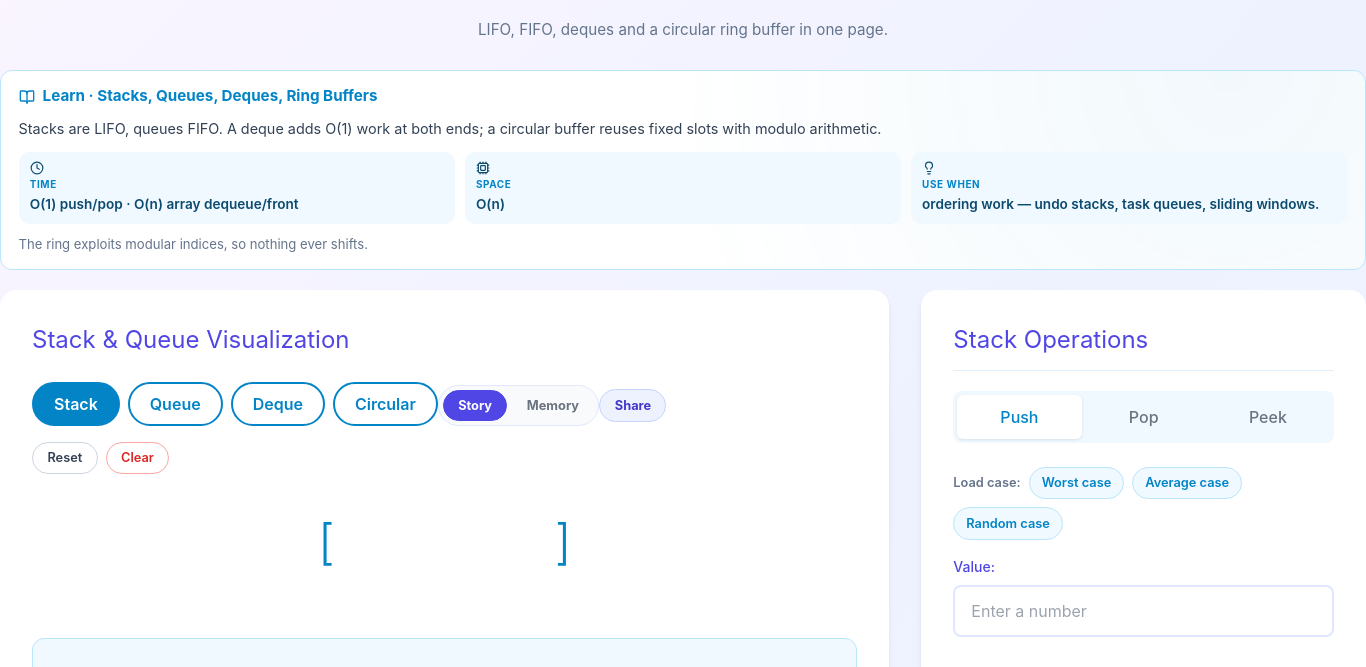
Test: stack operations › peeking highlights the top without changing data
Click the button "Peek" at [1268, 417], box 1206,395 -> 1330,439
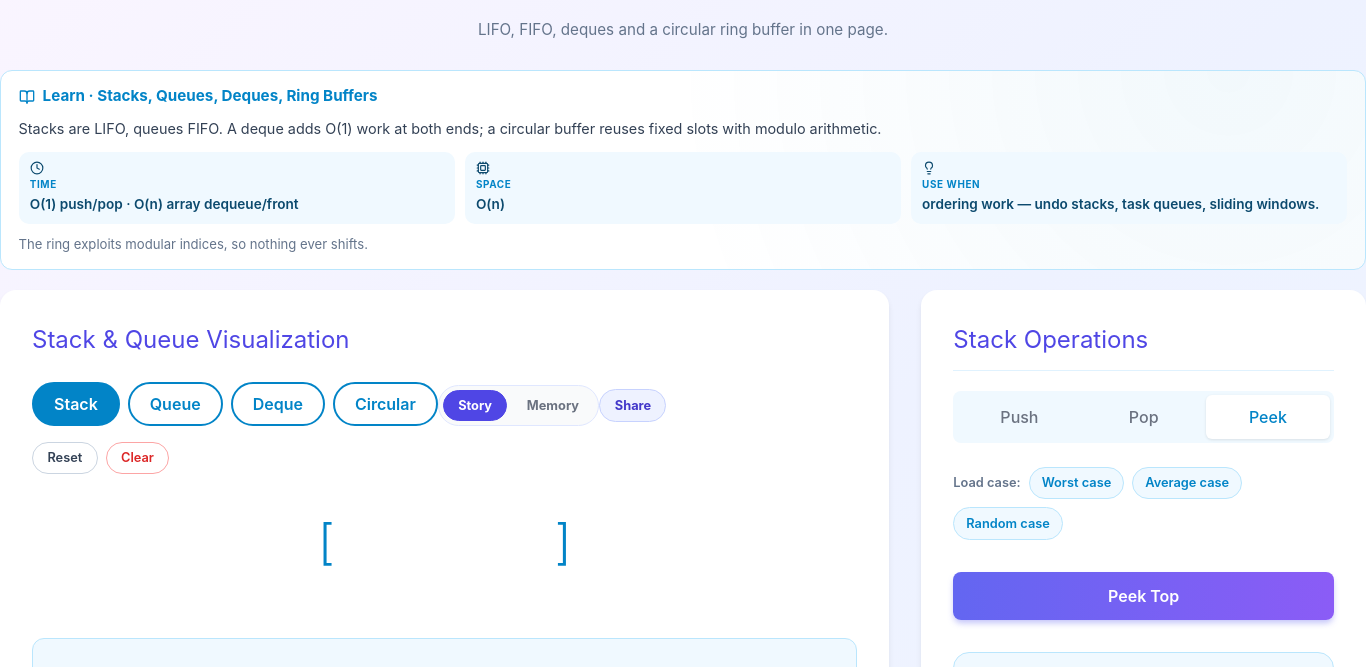
Click the button "Peek Top" at [1144, 596], box 953,572 -> 1334,620
Wait 30000 ms
(page scrolled)
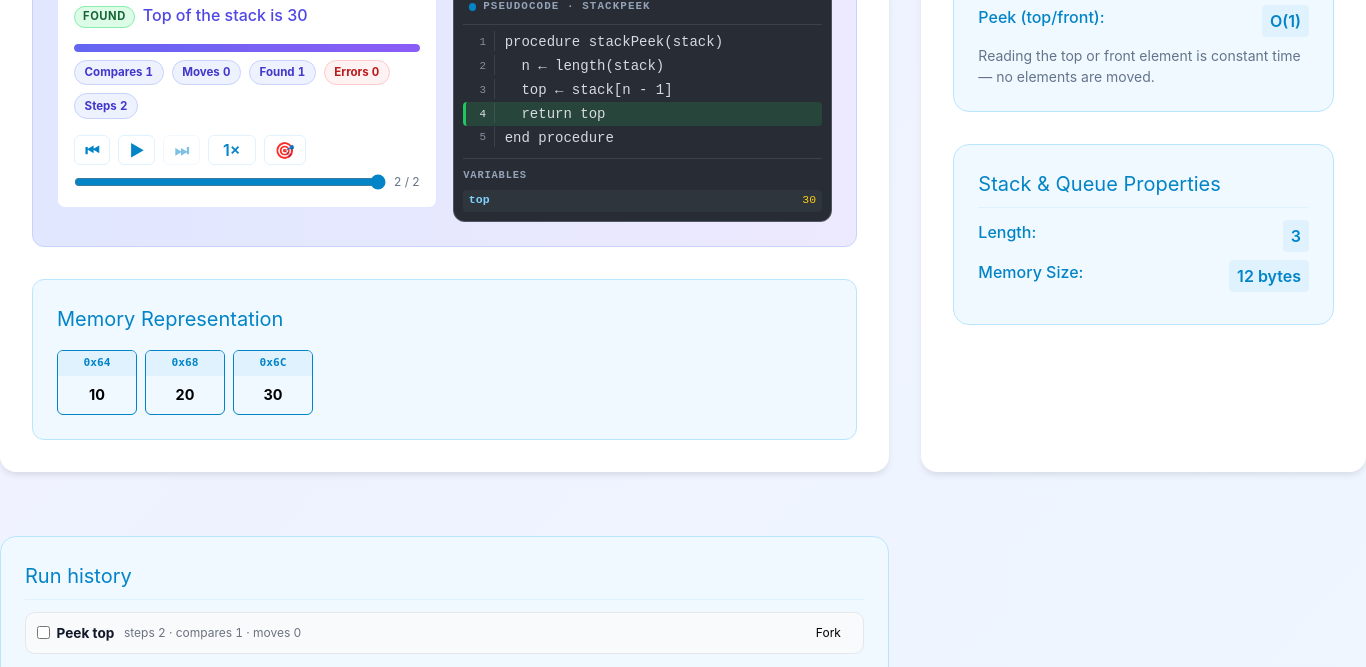
Expected: the number of elements with class "memory-value" is 3, 89,386 -> 105,403; 176,386 -> 194,403; 264,386 -> 282,403
Now the text "Peek top" is shown, box 57,623 -> 114,643
